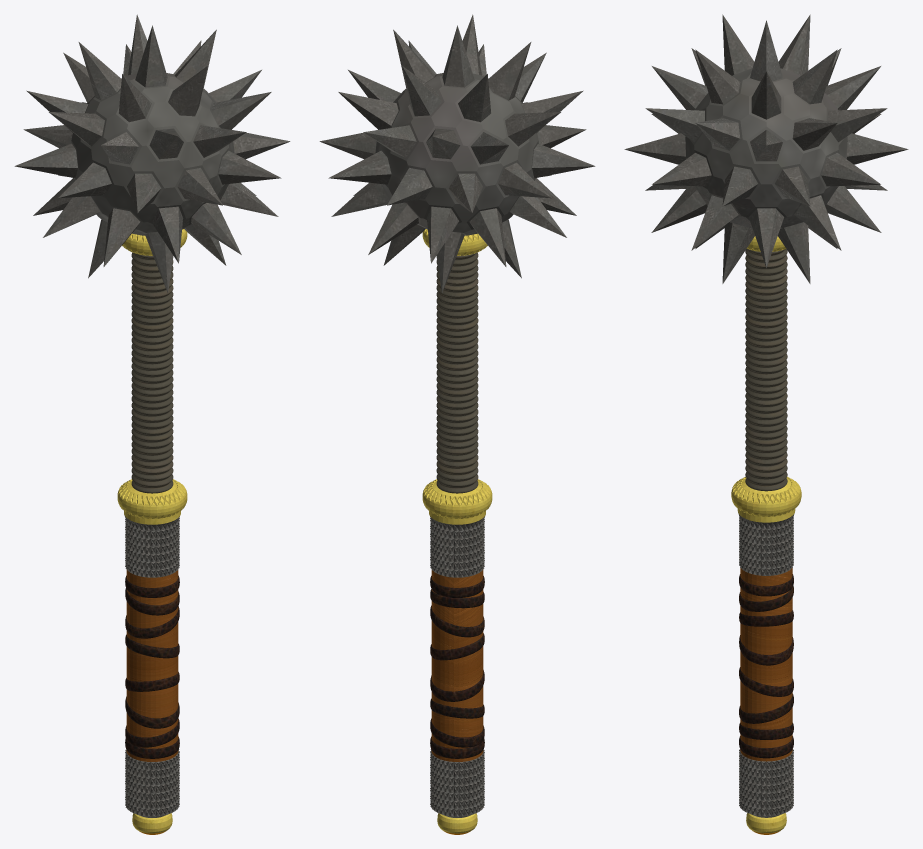
Rendered from MaceFV 1.fbx.
The picture shows the model from 3 angles, left to right: view 1: azimuth 30°, elevation 25°; view 2: azimuth 150°, elevation 25°; view 3: azimuth 270°, elevation 25°; orthographic projection.
Parts seen in each view (by area): view 1: Icosphere, Cylinder.003, Cylinder.002, Cylinder, Circle.001, Circle, Cylinder.001, Torus.002, Cylinder.004; view 2: Icosphere, Cylinder.003, Cylinder.002, Cylinder, Circle, Circle.001, Cylinder.001, Torus.002, Cylinder.004; view 3: Icosphere, Cylinder.003, Cylinder.002, Cylinder, Circle, Circle.001, Cylinder.001, Torus.002.
Part boxes in pixels (x1,y1,x2,y2): Icosphere: (14, 14, 290, 292); Cylinder.003: (131, 252, 173, 493); Cylinder.002: (124, 515, 179, 817); Cylinder: (126, 569, 178, 761); Circle.001: (125, 575, 179, 658); Circle: (125, 672, 179, 758); Cylinder.001: (117, 479, 187, 524); Torus.002: (132, 813, 172, 833); Cylinder.004: (122, 229, 187, 255); Icosphere: (319, 14, 595, 292); Cylinder.003: (436, 252, 478, 493); Cylinder.002: (430, 515, 485, 817); Cylinder: (431, 569, 483, 761); Circle: (430, 670, 484, 758); Circle.001: (430, 576, 484, 660); Cylinder.001: (422, 479, 492, 524); Torus.002: (437, 813, 477, 833); Cylinder.004: (422, 229, 487, 255); Icosphere: (624, 14, 908, 283); Cylinder.003: (745, 249, 787, 491); Cylinder.002: (738, 513, 794, 817); Cylinder: (740, 568, 792, 761); Circle: (739, 667, 793, 758); Circle.001: (739, 574, 793, 665); Cylinder.001: (731, 476, 801, 522); Torus.002: (746, 813, 786, 833).
Bounding box in the file's own units: 111 × 368 × 117.
Materials: 6 (6 with a texture image).
